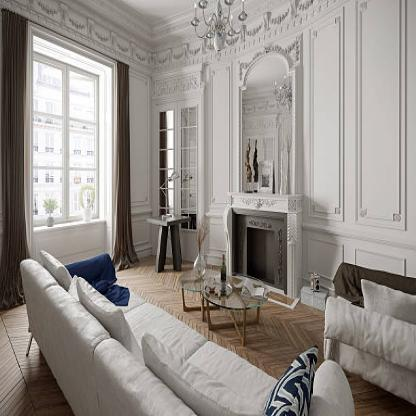Curtains: (0, 10, 31, 314), (114, 63, 138, 269)
Futec frame: (302, 0, 416, 280)
Window: (26, 27, 116, 228)
